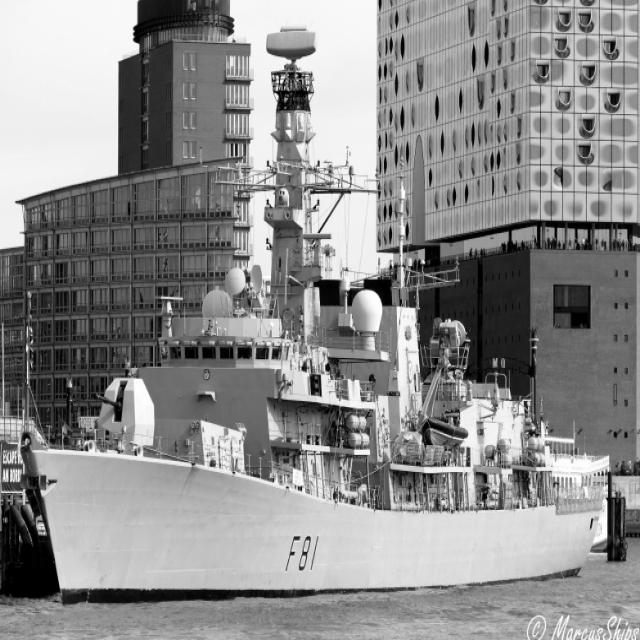Fragata: (20, 22, 615, 613)
